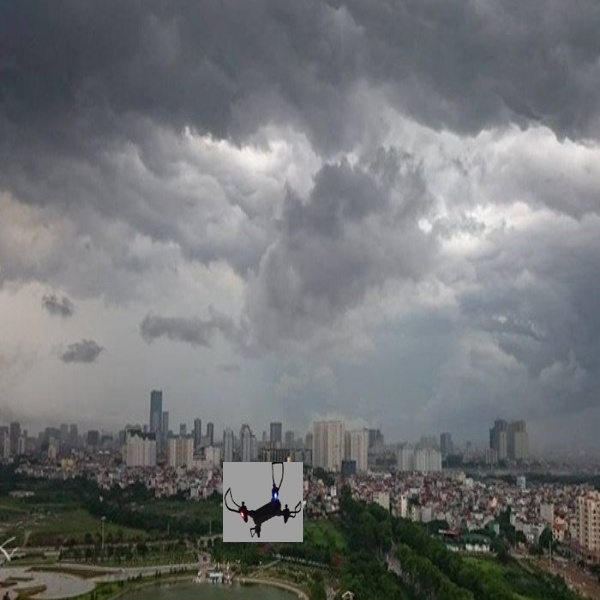drone: (224, 461, 306, 541)
